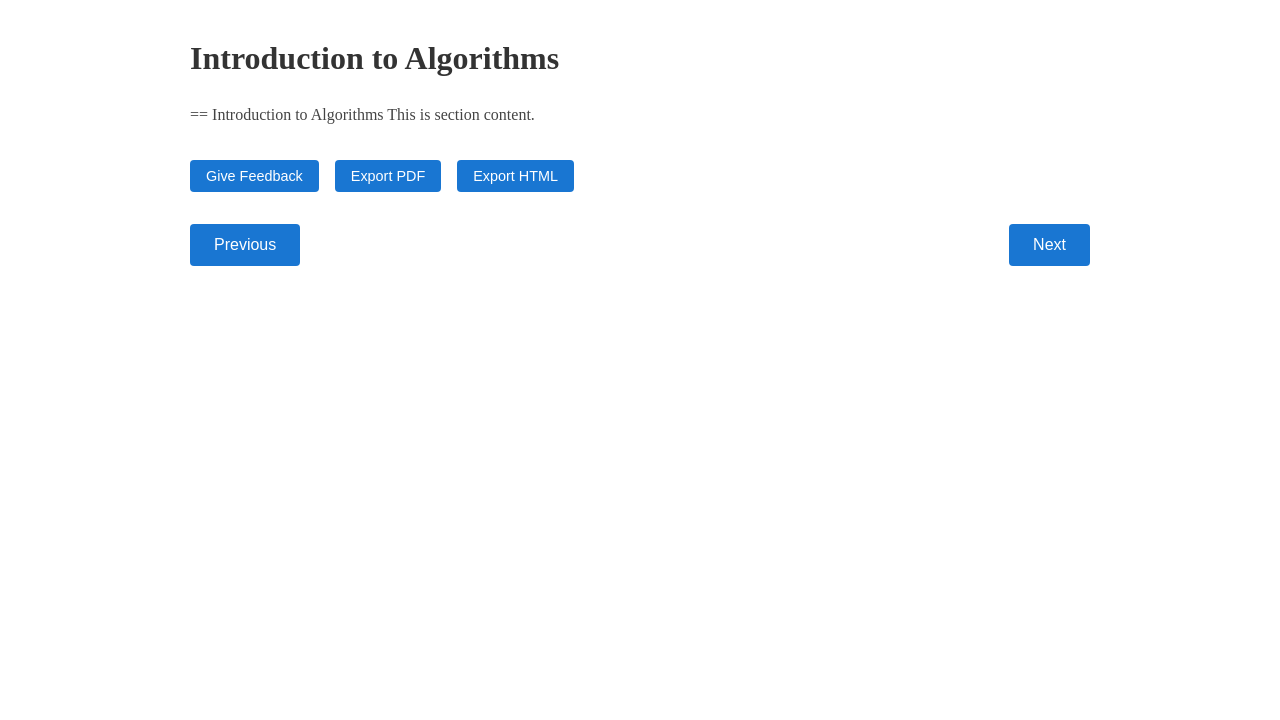
Test: SectionReaderView › feedback modal opens when Give Feedback is clicked
The image size is (1280, 720).
What coordinates should you click on to do the following:
click the button with class "feedback-button"
I would click on:
 (254, 176)
Its box is [190, 160, 319, 192].
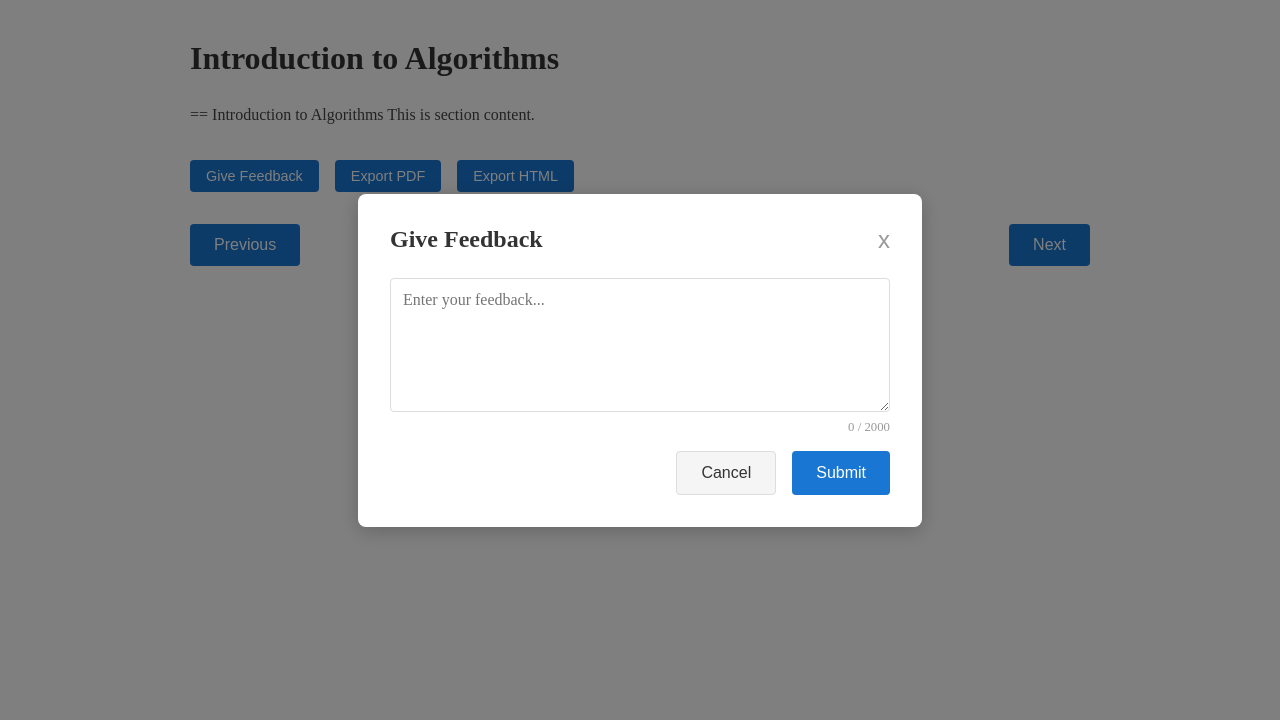
Check: the element with class "modal" is shown, box [358, 194, 922, 526]
